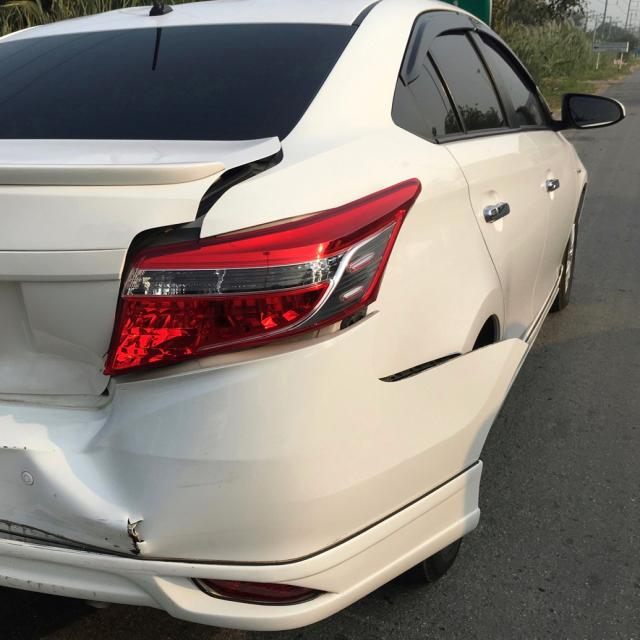crack: (126, 517, 147, 556)
dent: (36, 415, 150, 531)
